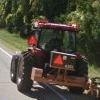Tractor: (11, 16, 99, 97)
